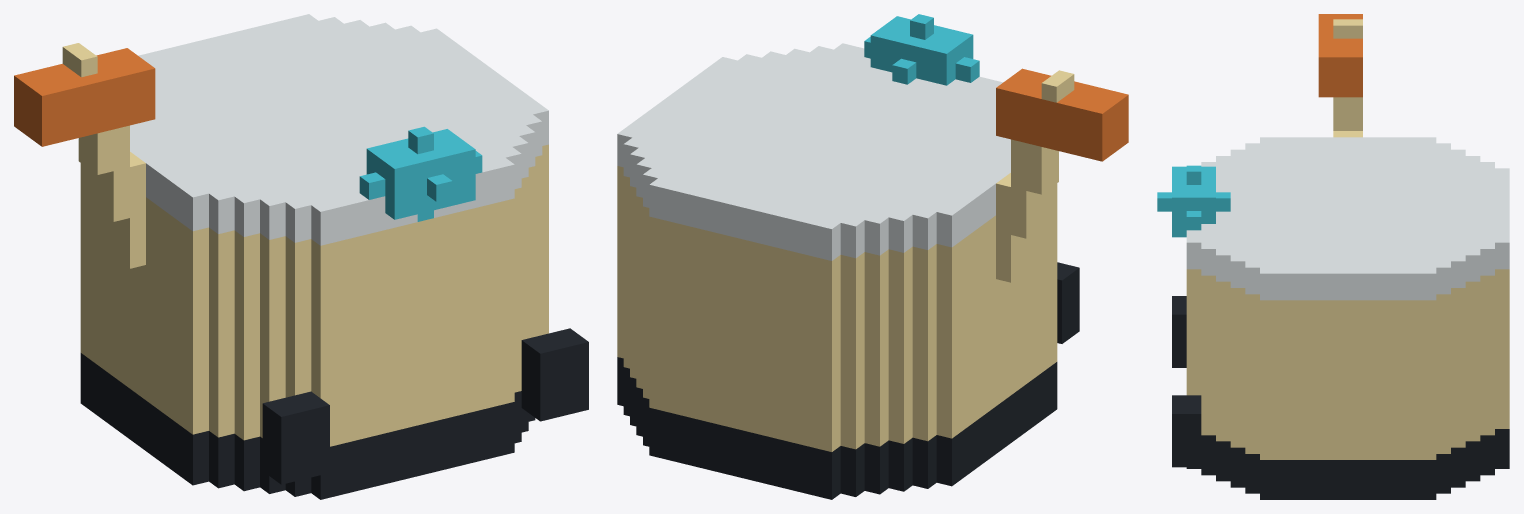
Rendered from voxel_32_50008.glb.
The picture shows the model from 3 angles, left to right: view 1: azimuth 30°, elevation 25°; view 2: azimuth 150°, elevation 25°; view 3: azimuth 270°, elevation 25°; orthographic projection. The views are drawn at different scales.
Parts seen in each view (by area): view 1: prop_50008; view 2: prop_50008; view 3: prop_50008.
Boxes of the visible parts, bbox=[...] form: prop_50008: bbox=[14, 14, 588, 499]; prop_50008: bbox=[617, 14, 1128, 499]; prop_50008: bbox=[1157, 14, 1509, 499].
Bounding box in the file's own units: 0.7522 × 0.6225 × 0.6225.
